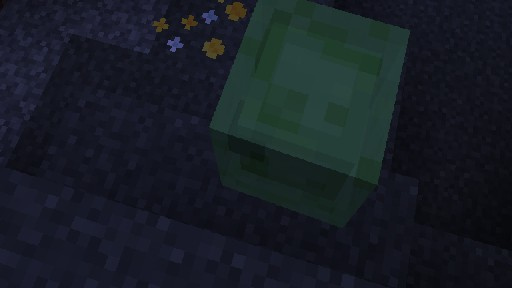slime: (208, 0, 410, 228)
